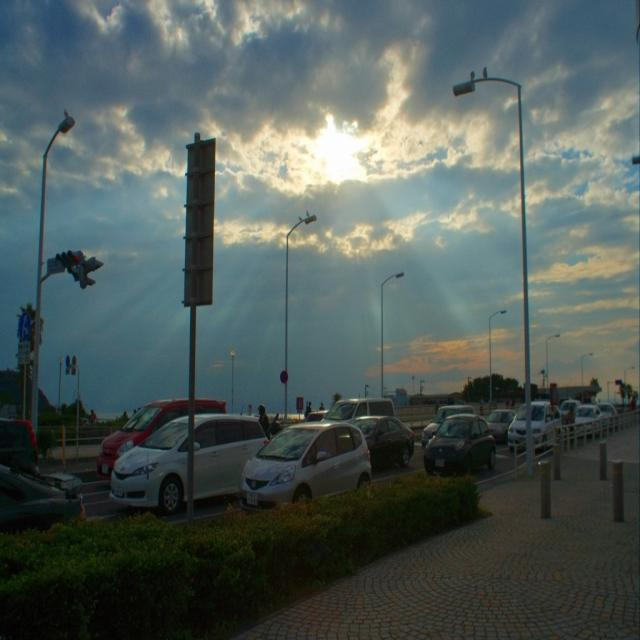car: (232, 415, 375, 513)
